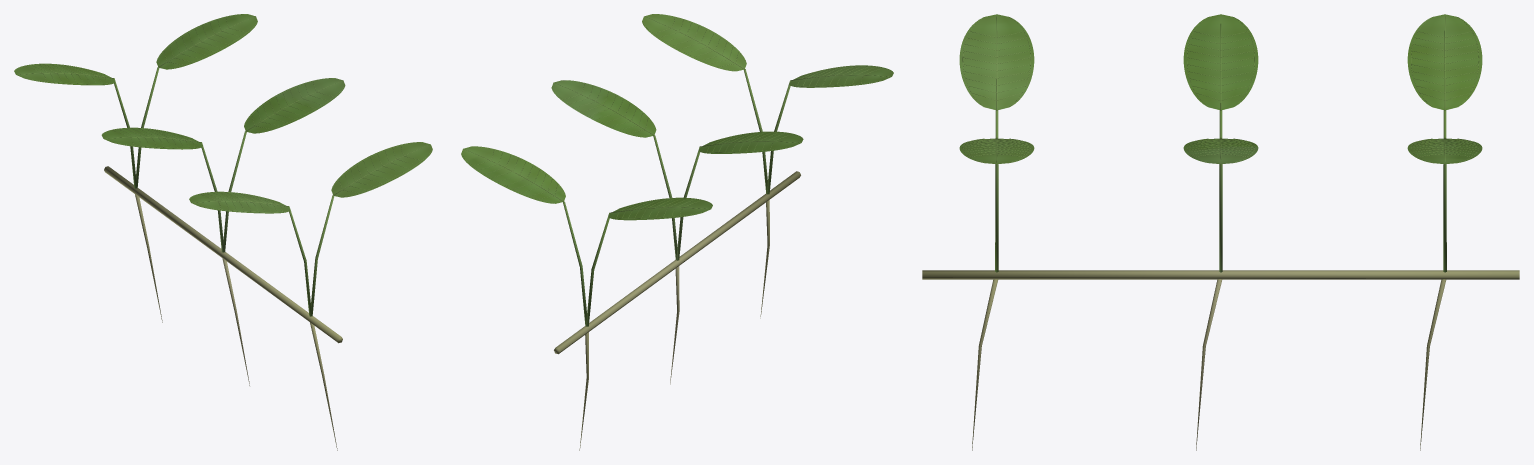
Rendered from halophila_ovalis_hybrid.glb.
The picture shows the model from 3 angles, left to right: view 1: azimuth 30°, elevation 25°; view 2: azimuth 150°, elevation 25°; view 3: azimuth 270°, elevation 25°; orthographic projection. The views are drawn at different scales.
Visible parts, largest first — view 1: HalophilaReference; view 2: HalophilaReference; view 3: HalophilaReference.
Boxes of the visible parts, bbox=[...] form: HalophilaReference: bbox=[14, 14, 432, 450]; HalophilaReference: bbox=[461, 14, 893, 450]; HalophilaReference: bbox=[922, 14, 1519, 450].
Size of the model in its own units: 0.0428 by 0.0467 by 0.072.
